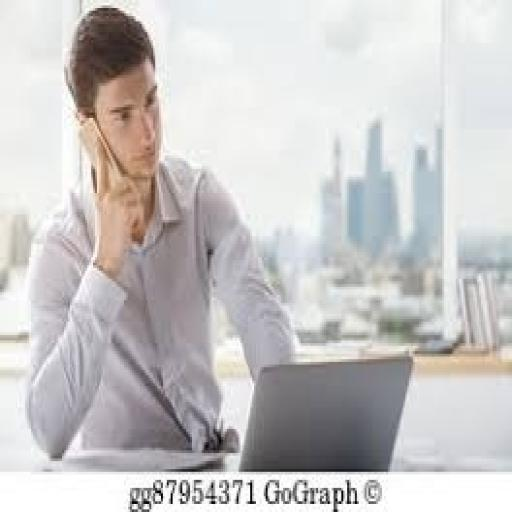using_laptop: (233, 348, 415, 472)
